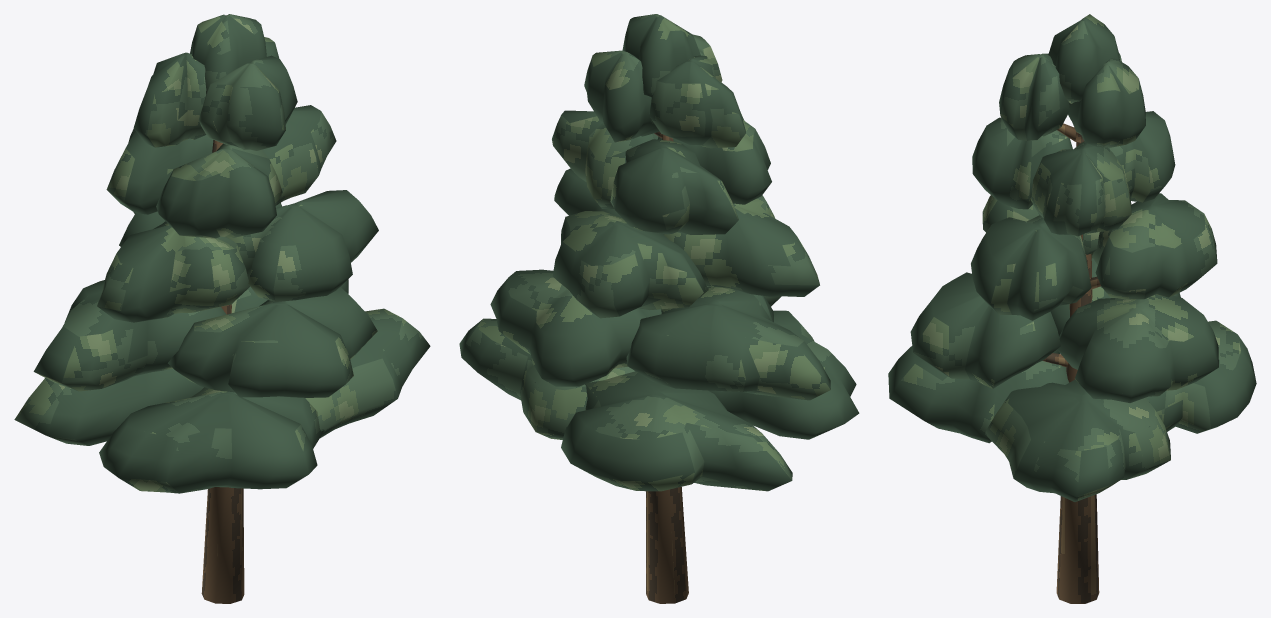
Rendered from conifer-natural.glb.
3 renders of one model, left to right at view 1: azimuth 30°, elevation 25°; view 2: azimuth 150°, elevation 25°; view 3: azimuth 270°, elevation 25°, orthographic.
Visible parts, largest first — view 1: conifer-natural runtime mesh; view 2: conifer-natural runtime mesh; view 3: conifer-natural runtime mesh.
Part boxes in pixels (<box>): conifer-natural runtime mesh: <box>14,14,430,603</box>; conifer-natural runtime mesh: <box>459,14,859,603</box>; conifer-natural runtime mesh: <box>888,14,1256,603</box>.
Size of the model in its own units: 2.86 by 4.13 by 2.38.
2 materials, 2 textured.
